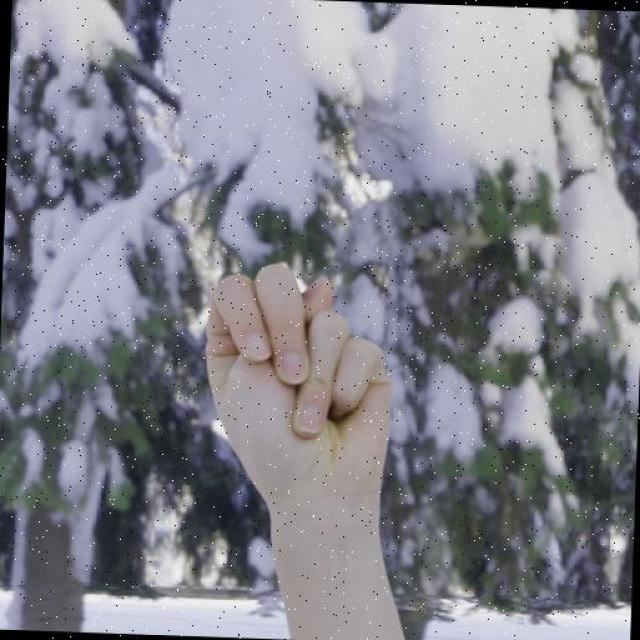N: (195, 250, 400, 506)
